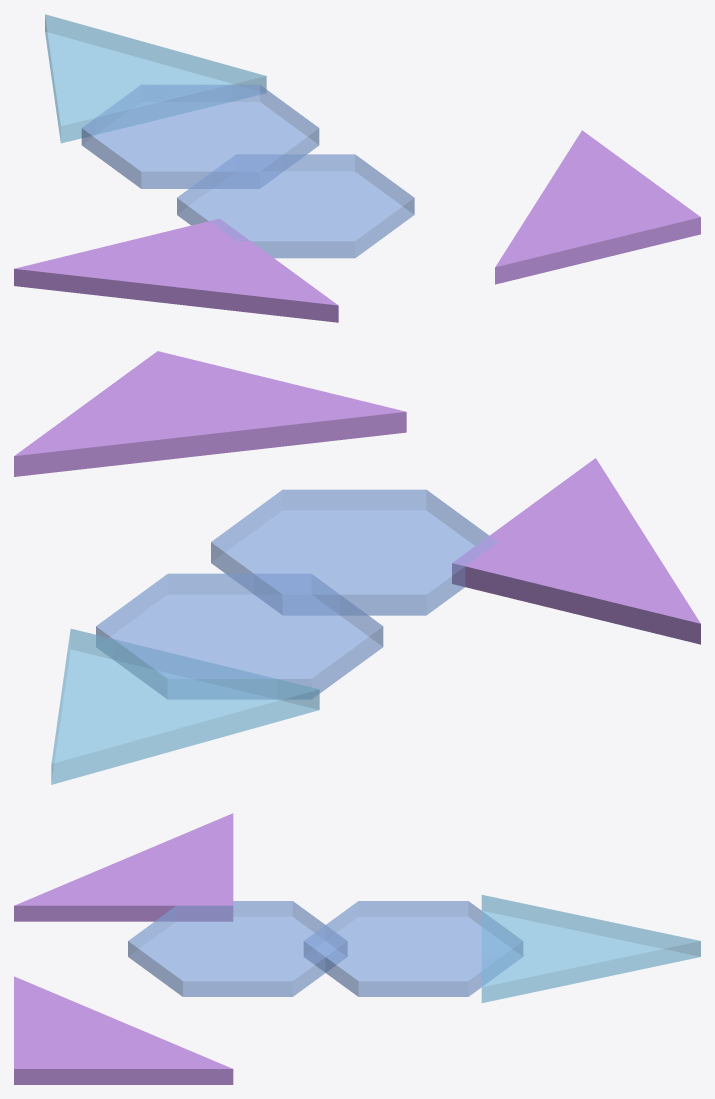
File: razzo_step5.glb
The picture shows the model from 3 angles, top to bottom: view 1: azimuth 30°, elevation 25°; view 2: azimuth 150°, elevation 25°; view 3: azimuth 270°, elevation 25°; orthographic projection. The views are drawn at different scales.
Visible parts, largest first — view 1: esagono.001, esagono, triangolo_rettangolo, triangolo_isoscele_grande, triangolo_rettangolo.001; view 2: esagono.001, esagono, triangolo_rettangolo.001, triangolo_isoscele_grande, triangolo_rettangolo; view 3: esagono.001, esagono, triangolo_rettangolo, triangolo_isoscele_grande, triangolo_rettangolo.001.
Boxes of the visible parts, x1,y1,x2,y2 form: esagono.001: (81,84,319,188); esagono: (177,154,414,258); triangolo_rettangolo: (14,218,338,322); triangolo_isoscele_grande: (45,14,266,143); triangolo_rettangolo.001: (495,130,700,284); esagono.001: (96,573,383,699); esagono: (211,489,497,615); triangolo_rettangolo.001: (14,351,406,476); triangolo_isoscele_grande: (51,628,319,784); triangolo_rettangolo: (452,458,700,644); esagono.001: (304,901,522,996); esagono: (128,901,347,996); triangolo_rettangolo: (14,813,233,921); triangolo_isoscele_grande: (481,895,700,1002); triangolo_rettangolo.001: (14,976,233,1084).
Bounding box in the file's own units: 2.76 × 0.08 × 3.13.
